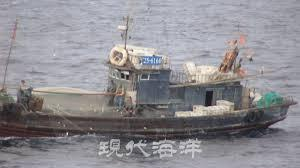Ship: (1, 35, 300, 142)
